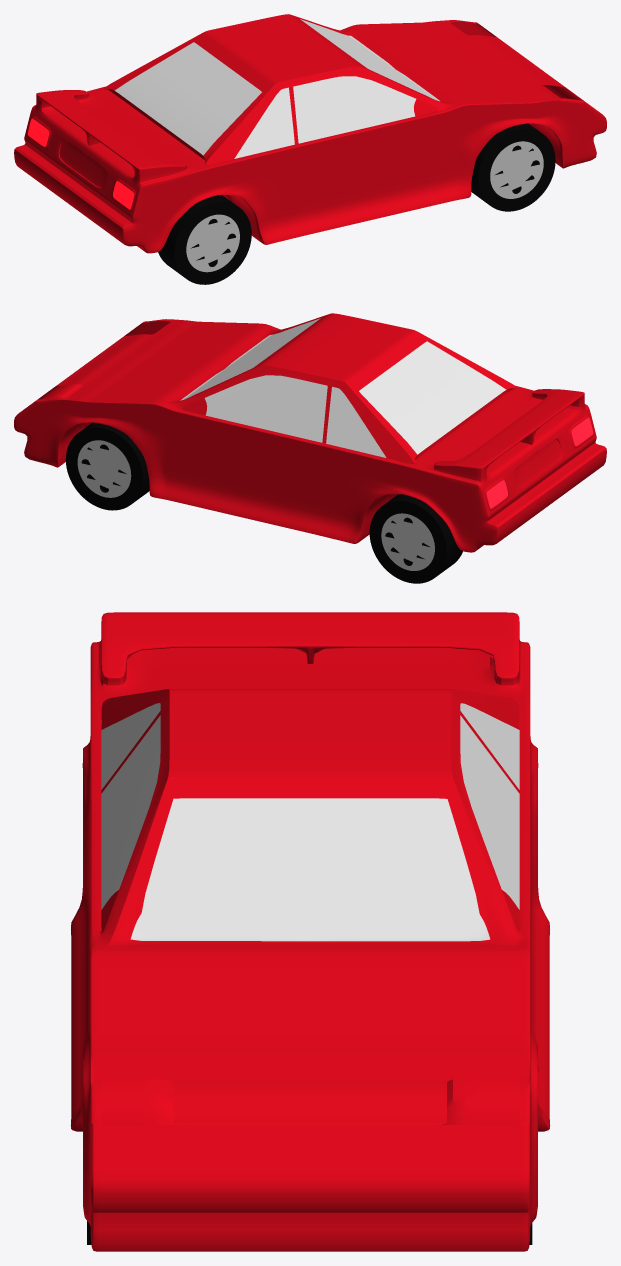
Rendered from Sports_Car.fbx.
3 views of the same model, one above another, from view 1: azimuth 30°, elevation 25°; view 2: azimuth 150°, elevation 25°; view 3: azimuth 270°, elevation 25° (orthographic). The views are drawn at different scales.
Visible parts, largest first — view 1: Cube, Cylinder.001, Cylinder; view 2: Cube, Cylinder.003, Cylinder.002; view 3: Cube.
Part boxes in pixels (x1,y1,x2,y2): Cube: (14, 14, 606, 253); Cylinder.001: (158, 195, 251, 284); Cylinder: (471, 123, 555, 211); Cube: (14, 313, 606, 552); Cylinder.003: (369, 494, 462, 583); Cylinder.002: (65, 422, 149, 510); Cube: (70, 612, 550, 1251).
Bounding box in the file's own units: 1263 × 415 × 541.
